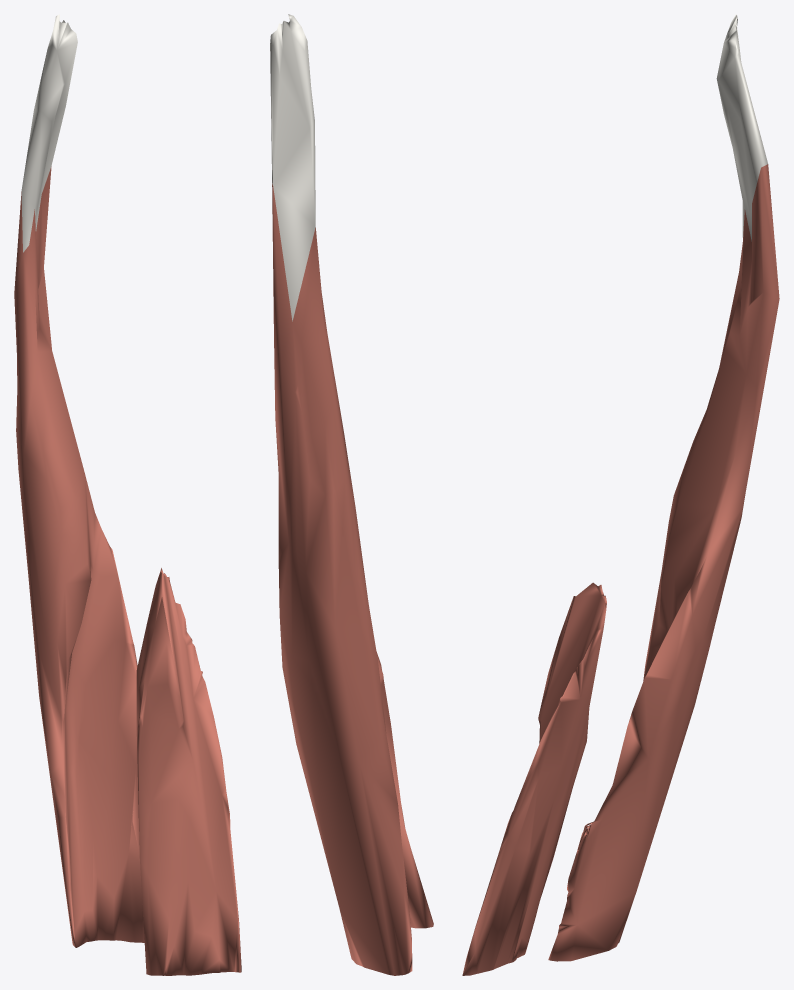
File: extenseur-ulnaire-carpe.glb
3 views of the same model, side by side, from view 1: azimuth 30°, elevation 25°; view 2: azimuth 150°, elevation 25°; view 3: azimuth 270°, elevation 25° (orthographic). The views are drawn at different scales.
Parts seen in each view (by area): view 1: extenseur-ulnaire-carpe; view 2: extenseur-ulnaire-carpe; view 3: extenseur-ulnaire-carpe.
Boxes of the visible parts, x1=… form: extenseur-ulnaire-carpe: x1=14, y1=14, x2=241, y2=975; extenseur-ulnaire-carpe: x1=270, y1=14, x2=433, y2=975; extenseur-ulnaire-carpe: x1=462, y1=14, x2=779, y2=975.
Bounding box in the file's own units: 0.0228 × 0.1634 × 0.0503.
